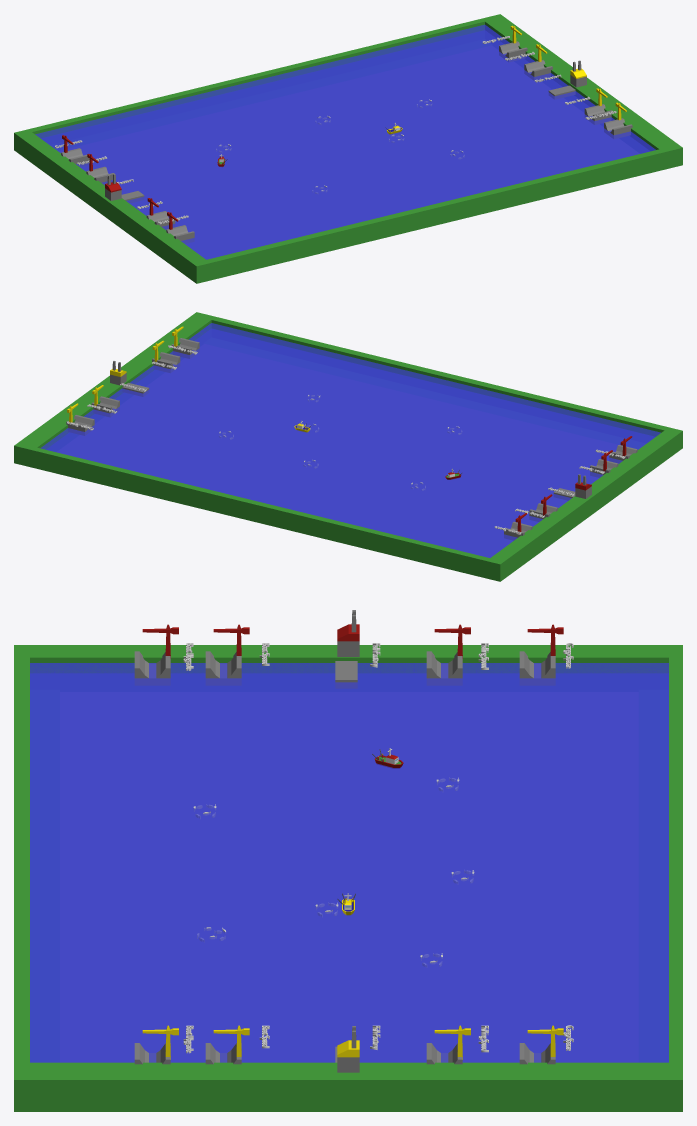
The model's file is GADS Fish idea.fbx.
3 views of the same model, one above another, from view 1: azimuth 30°, elevation 25°; view 2: azimuth 150°, elevation 25°; view 3: azimuth 270°, elevation 25° (orthographic). The views are drawn at different scales.
Parts seen in each view (by area): view 1: Cube.001, Cube, Cube.014, Cube.018; view 2: Cube.001, Cube; view 3: Cube.001, Cube, Cube.004, Cube.006, Cube.008, Cube.010, Cube.013, Cube.003.
Part boxes in pixels (x1,y1,x2,y2): Cube.001: [35, 24, 655, 259]; Cube: [14, 14, 682, 283]; Cube.014: [604, 118, 632, 138]; Cube.018: [524, 60, 552, 80]; Cube.001: [40, 323, 660, 557]; Cube: [14, 312, 682, 581]; Cube.001: [30, 663, 668, 1062]; Cube: [14, 645, 682, 1111]; Cube.004: [134, 651, 170, 685]; Cube.006: [205, 651, 241, 685]; Cube.008: [426, 651, 462, 685]; Cube.010: [519, 651, 555, 685]; Cube.013: [337, 1026, 359, 1072]; Cube.003: [337, 610, 359, 656].
Size of the model in its own units: 9239 by 726 by 6008.
